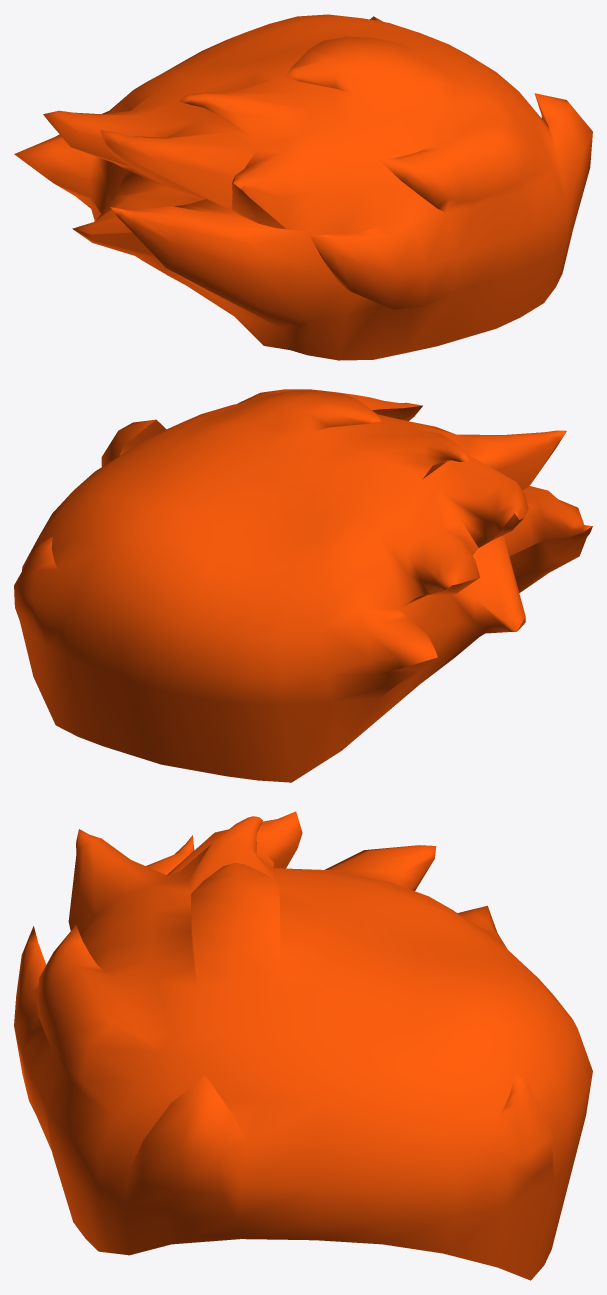
File: Hair_22_06.fbx
3 views of the same model, one above another, from view 1: azimuth 30°, elevation 25°; view 2: azimuth 150°, elevation 25°; view 3: azimuth 270°, elevation 25° (orthographic). The views are drawn at different scales.
Visible parts, largest first — view 1: Hair_22_06; view 2: Hair_22_06; view 3: Hair_22_06.
Part boxes in pixels (x1,y1,x2,y2): Hair_22_06: (14,14,592,360); Hair_22_06: (14,389,592,782); Hair_22_06: (14,811,592,1280).
Size of the model in its own units: 34.1 by 18.35 by 30.44.
